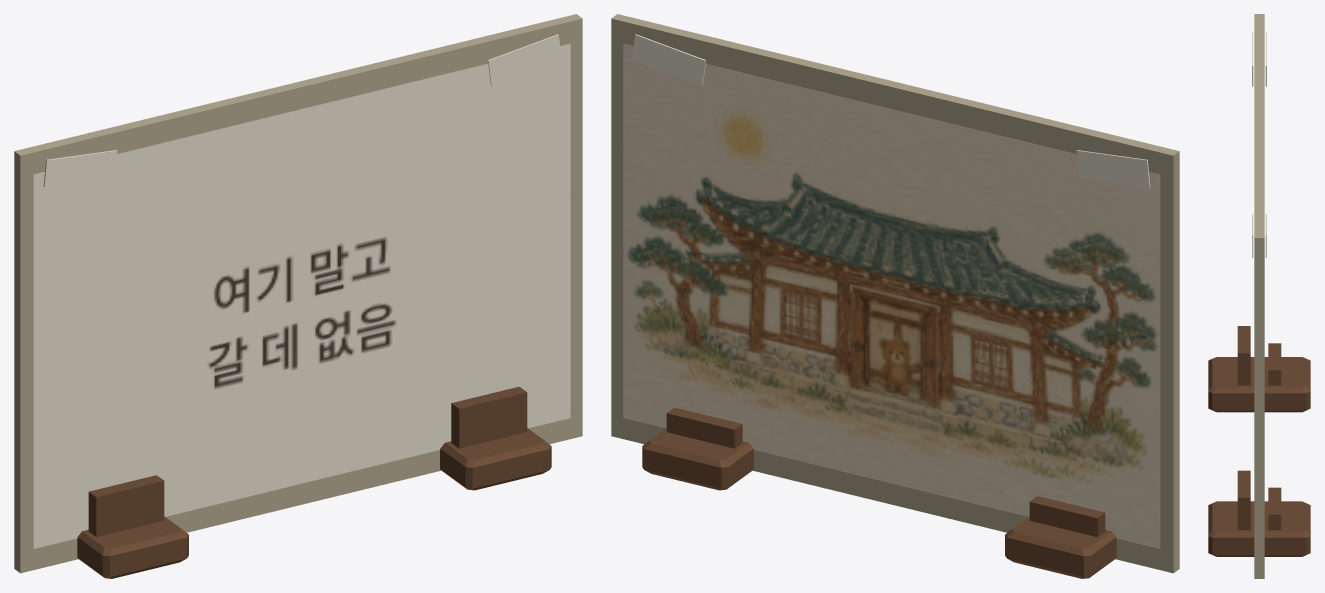
Rendered from C10_Bears_Museum_Drawing.fbx.
3 renders of one model, left to right at view 1: azimuth 30°, elevation 25°; view 2: azimuth 150°, elevation 25°; view 3: azimuth 270°, elevation 25°, orthographic. The views are drawn at different scales.
Visible parts, largest first — view 1: Back_Handwritten_Note, Drawing_Board, Display_Feet, Paper_Tape; view 2: Front_Bear_Drawing, Drawing_Board, Display_Feet, Paper_Tape; view 3: Display_Feet, Drawing_Board, Paper_Tape.
Part boxes in pixels (box(x1,y1,x2,y2)): Back_Handwritten_Note: box(33, 43, 570, 548); Drawing_Board: box(14, 14, 582, 573); Display_Feet: box(77, 386, 551, 578); Paper_Tape: box(43, 34, 561, 187); Front_Bear_Drawing: box(623, 43, 1160, 548); Drawing_Board: box(611, 14, 1179, 573); Display_Feet: box(642, 407, 1116, 578); Paper_Tape: box(632, 34, 1150, 187); Display_Feet: box(1208, 326, 1310, 556); Drawing_Board: box(1254, 14, 1264, 578); Paper_Tape: box(1252, 32, 1266, 257).
Size of the model in its own units: 0.62 by 0.443 by 0.12.
Materials: 4 (1 with a texture image).
